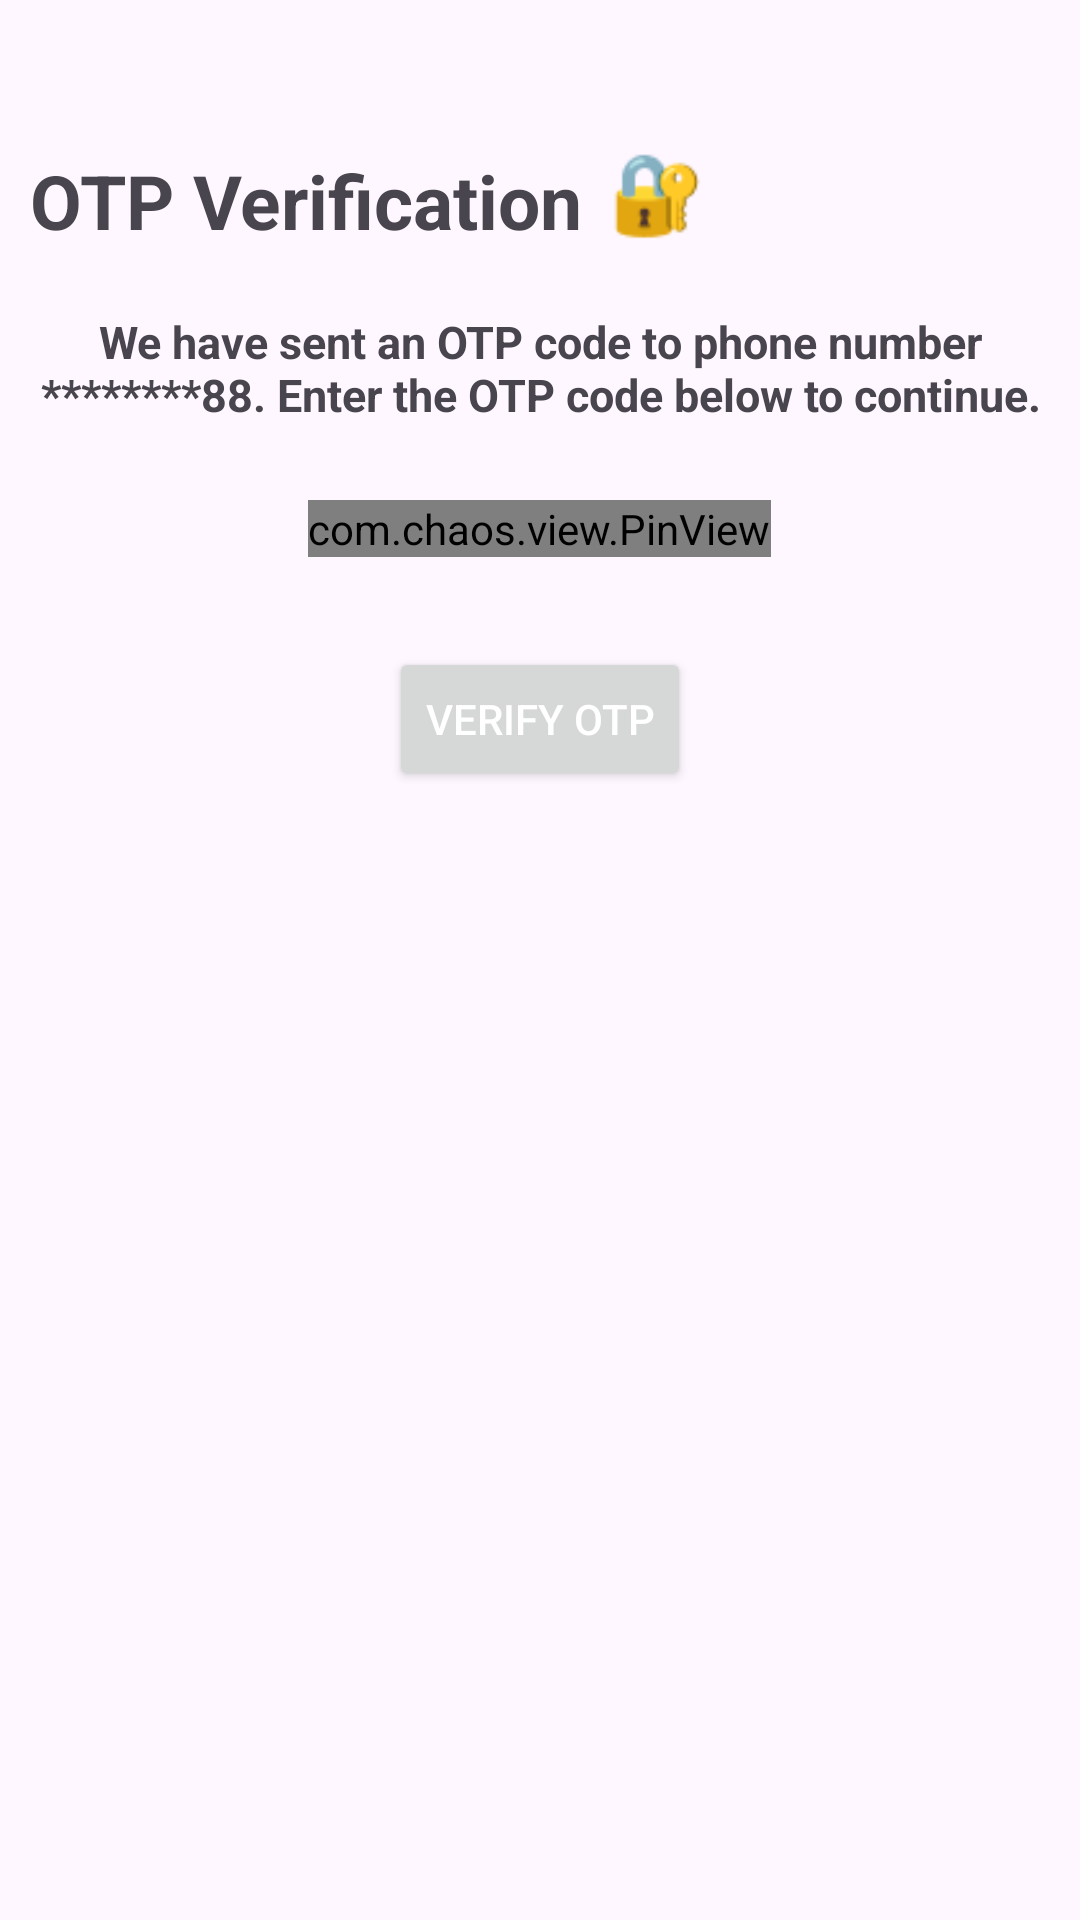

Screen size 1080*1920. Icon name, then its box in pixels as (x1, y1, x2, y2):
lockkey: (614, 154, 700, 238)
